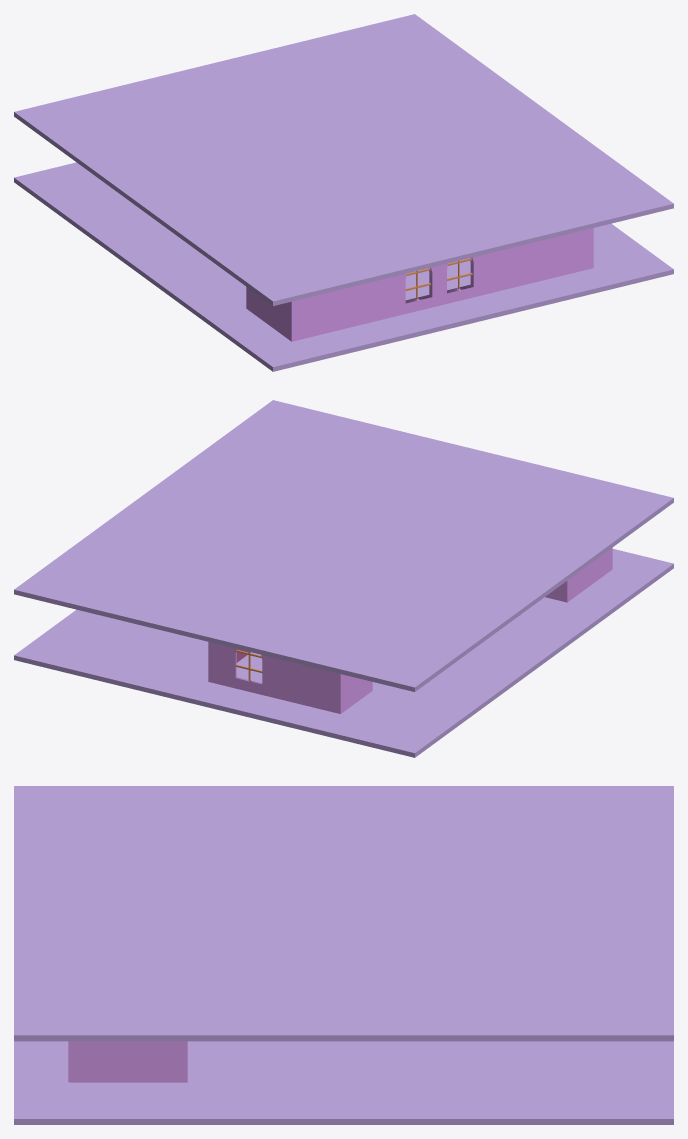
The model's file is hall_new.fbx.
3 renders of one model, top to bottom at view 1: azimuth 30°, elevation 25°; view 2: azimuth 150°, elevation 25°; view 3: azimuth 270°, elevation 25°, orthographic. The views are drawn at different scales.
Visible parts, largest first — view 1: 立方體.008, 立方體.001, 立方體; view 2: 立方體.008, 立方體.001, 立方體; view 3: 立方體.008, 立方體.001, 立方體.
Part boxes in pixels (x1=…): 立方體.008: x1=14, y1=14, x2=673, y2=305; 立方體.001: x1=14, y1=162, x2=673, y2=371; 立方體: x1=246, y1=228, x2=593, y2=341; 立方體.008: x1=14, y1=400, x2=673, y2=691; 立方體.001: x1=14, y1=549, x2=673, y2=757; 立方體: x1=208, y1=547, x2=612, y2=713; 立方體.008: x1=14, y1=786, x2=673, y2=1041; 立方體.001: x1=14, y1=1041, x2=673, y2=1124; 立方體: x1=68, y1=1041, x2=187, y2=1082.
Size of the model in its own units: 1920 by 322 by 2148.
